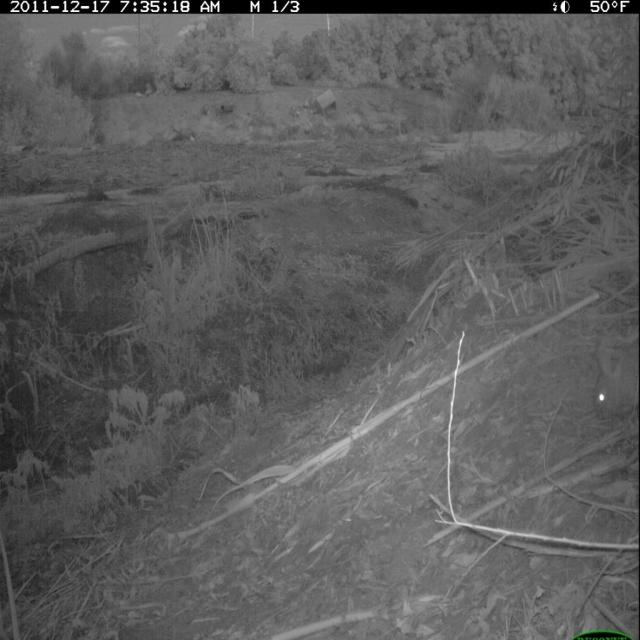rabbit: (589, 328, 640, 425)
